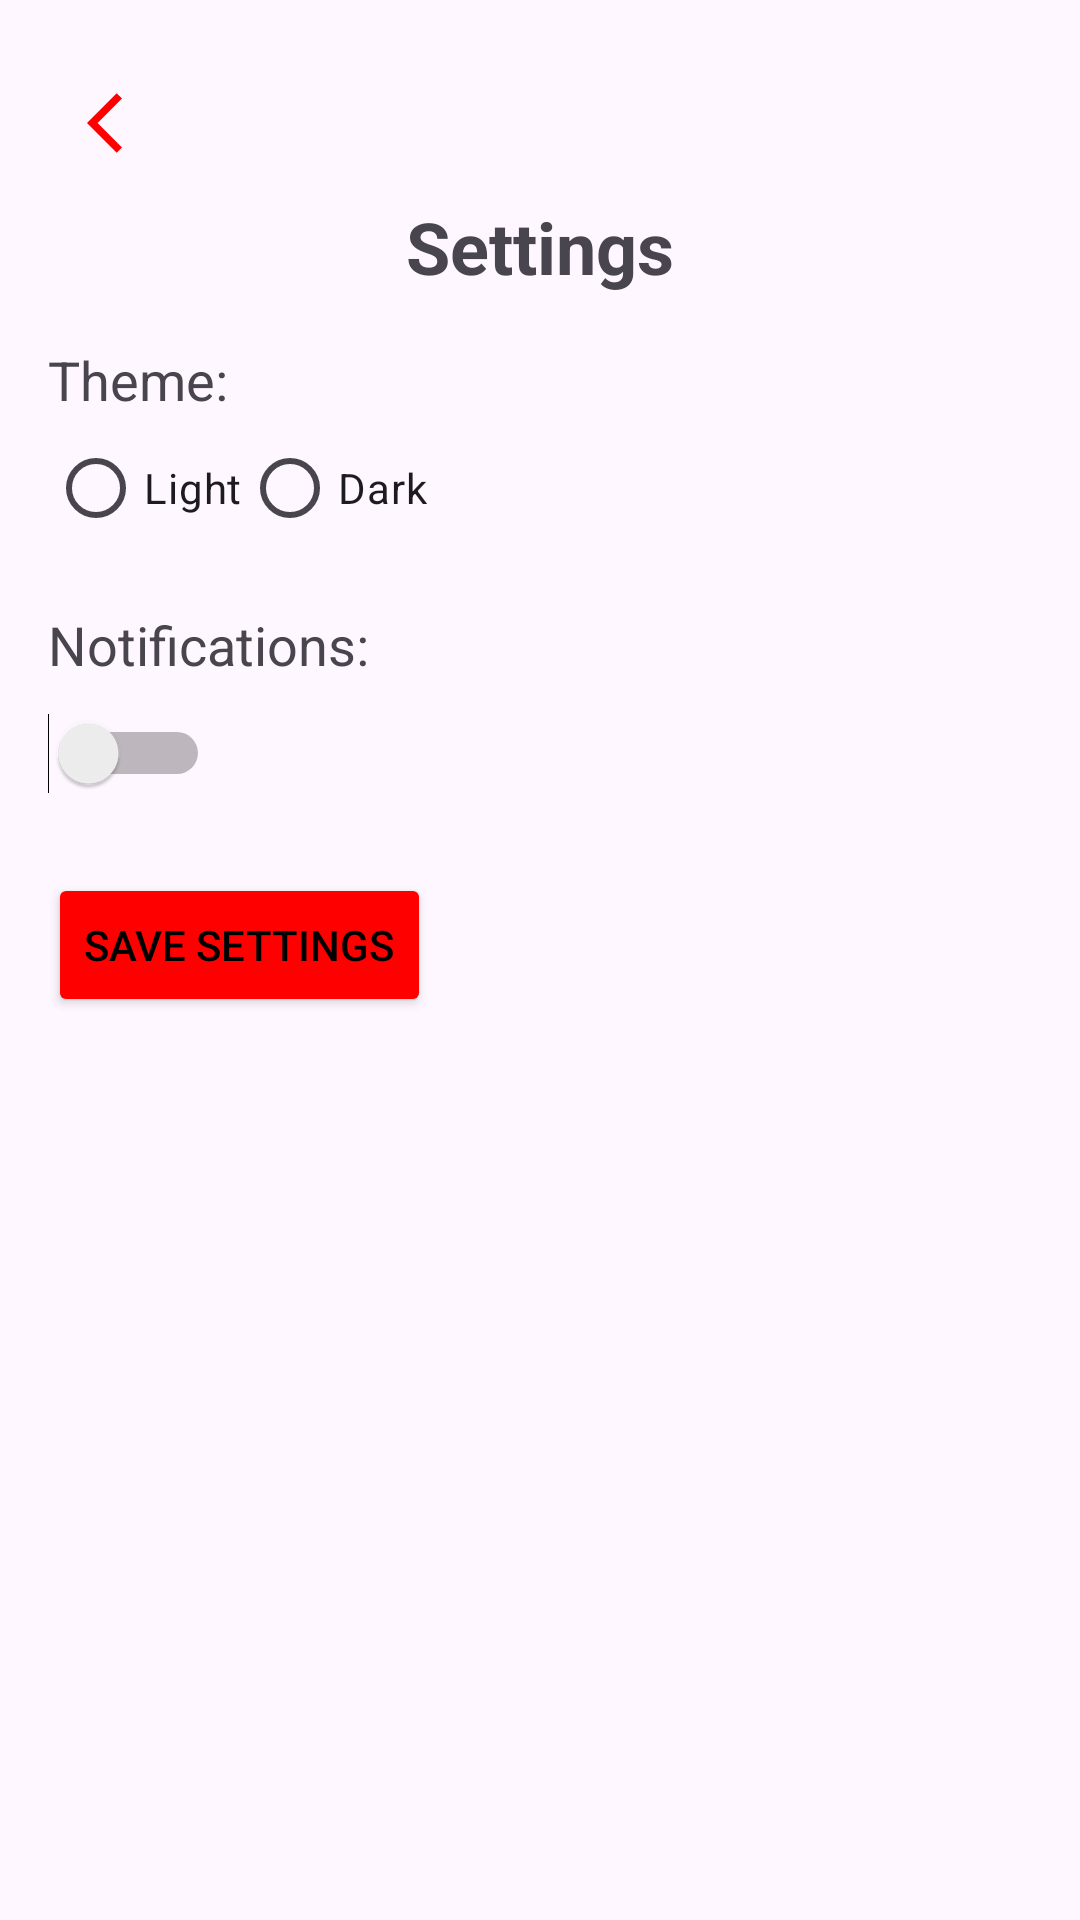

Named icons in this screenshot (1080px×1920px) and their centers, point (x, y):
Back: point (104, 123)
